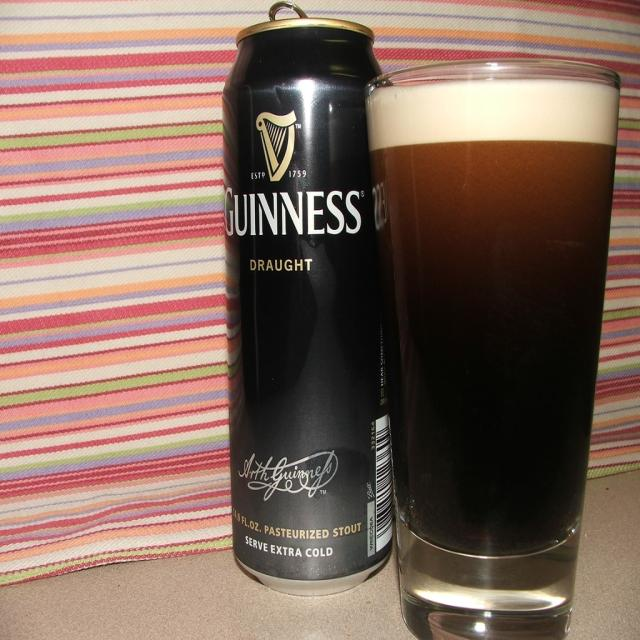guiness: (225, 108, 365, 240)
